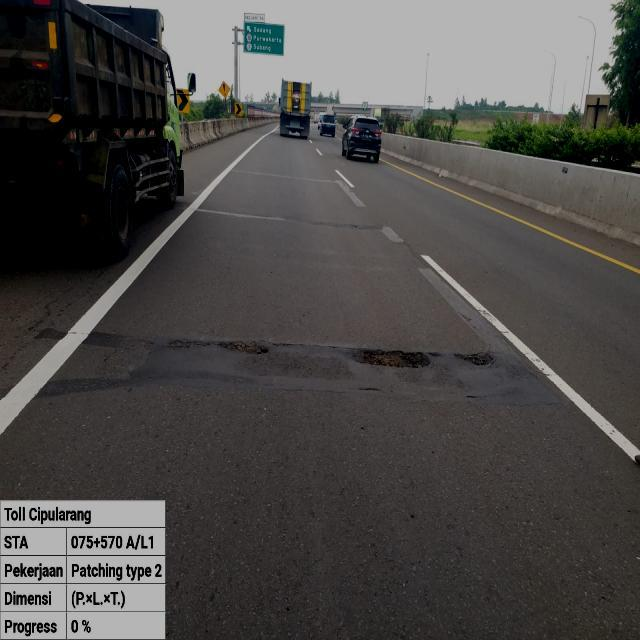Buraco: (161, 336, 273, 358), (348, 347, 433, 371), (450, 350, 499, 370)
